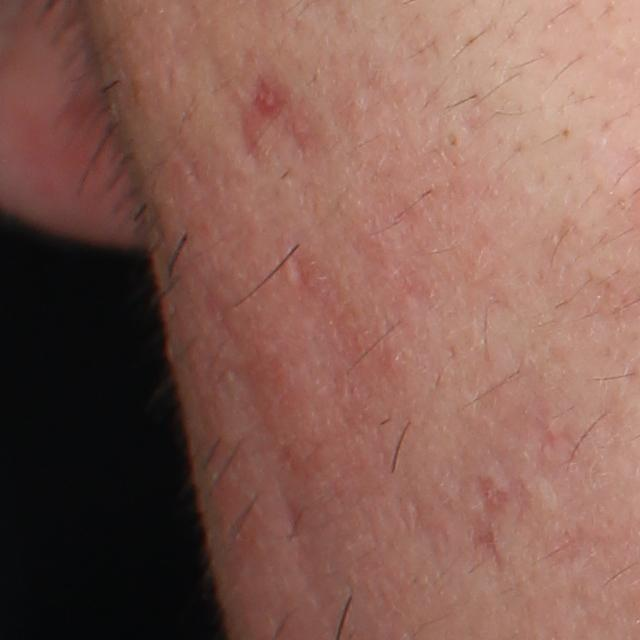atrophic_scar: (226, 63, 335, 178), (463, 473, 527, 575), (282, 242, 318, 303)
comedo: (443, 129, 461, 151)
